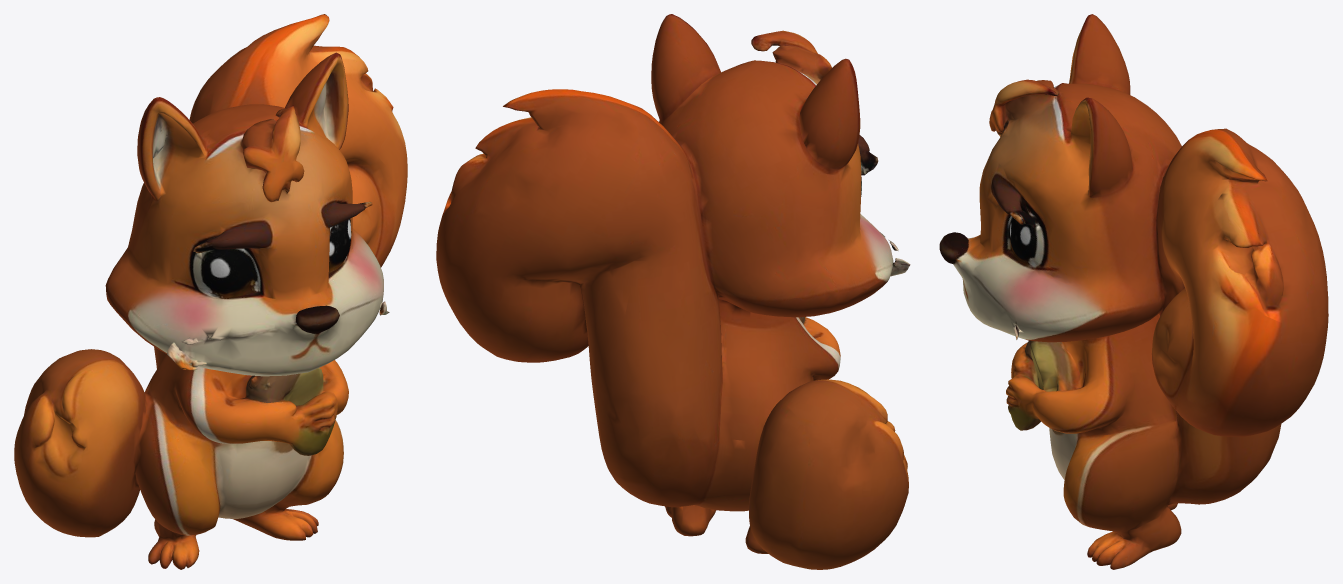
Rendered from somurtkan_sincap.glb.
The picture shows the model from 3 angles, left to right: view 1: azimuth 30°, elevation 25°; view 2: azimuth 150°, elevation 25°; view 3: azimuth 270°, elevation 25°; orthographic projection.
Parts seen in each view (by area): view 1: world_1; view 2: world_1; view 3: world_1.
Boxes of the visible parts, x1=… form: world_1: x1=14, y1=14, x2=407, y2=569; world_1: x1=436, y1=14, x2=910, y2=569; world_1: x1=939, y1=14, x2=1328, y2=569.
Bounding box in the file's own units: 0.8998 × 0.9961 × 0.737.
Materials: 1 (1 with a texture image).
